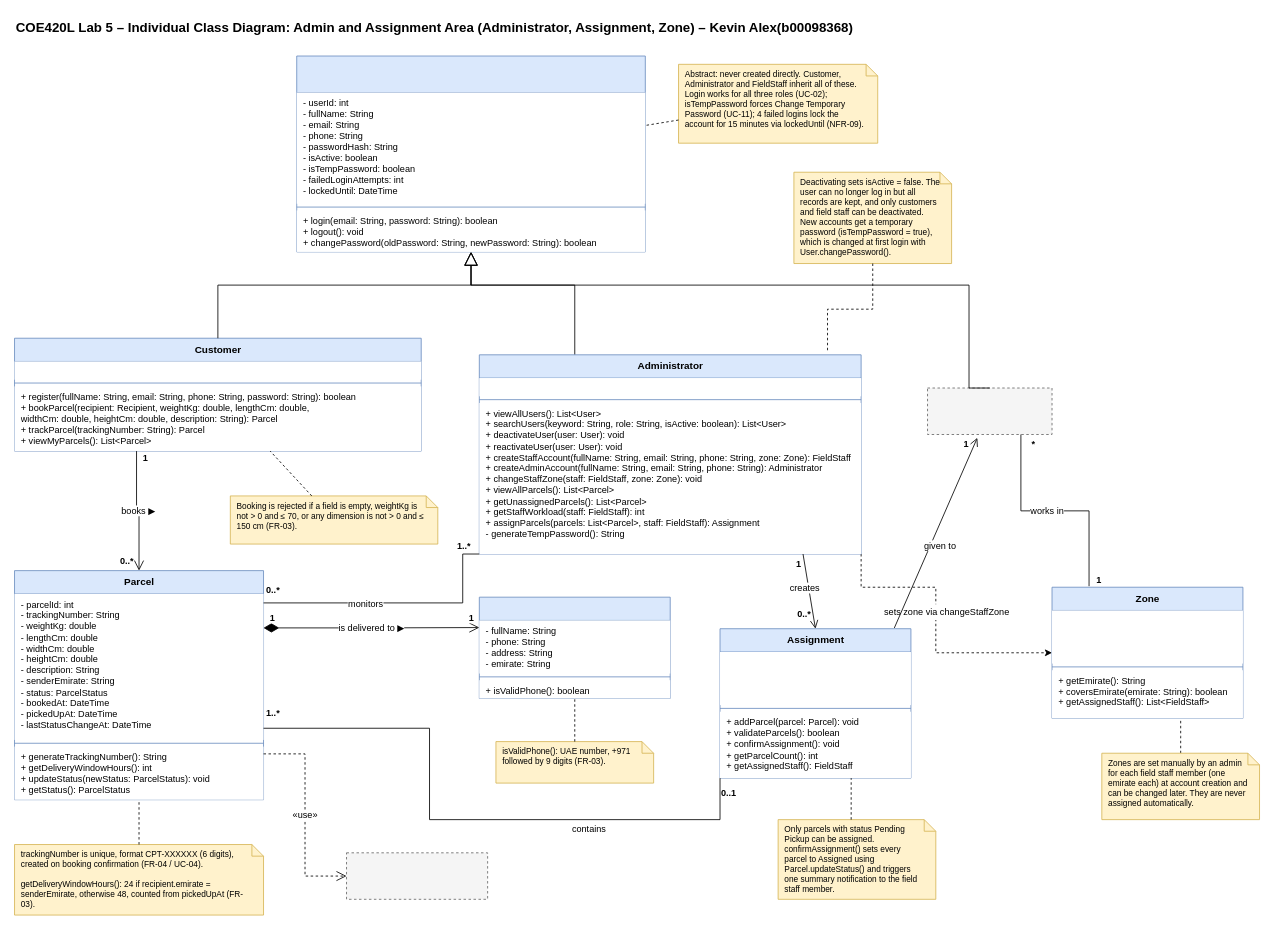
The diagram is 1274 pixels wide and 930 high, and some of its shapes have lost their labels. Here are the shapes that lost their labels. From the top down, the box of each, then its label:
(296, 55, 645, 252): «abstract» User
(14, 361, 421, 379): - registeredAt: DateTime
(927, 387, 1052, 435): FieldStaff (Mohammed)
(478, 596, 670, 698): Recipient
(1052, 610, 1243, 663): - zoneId: int - emirate: String
(720, 652, 911, 705): - assignmentId: int - assignedAt: DateTime - parcelCount: int
(346, 852, 488, 899): «enumeration» ParcelStatus (Mohammed)
